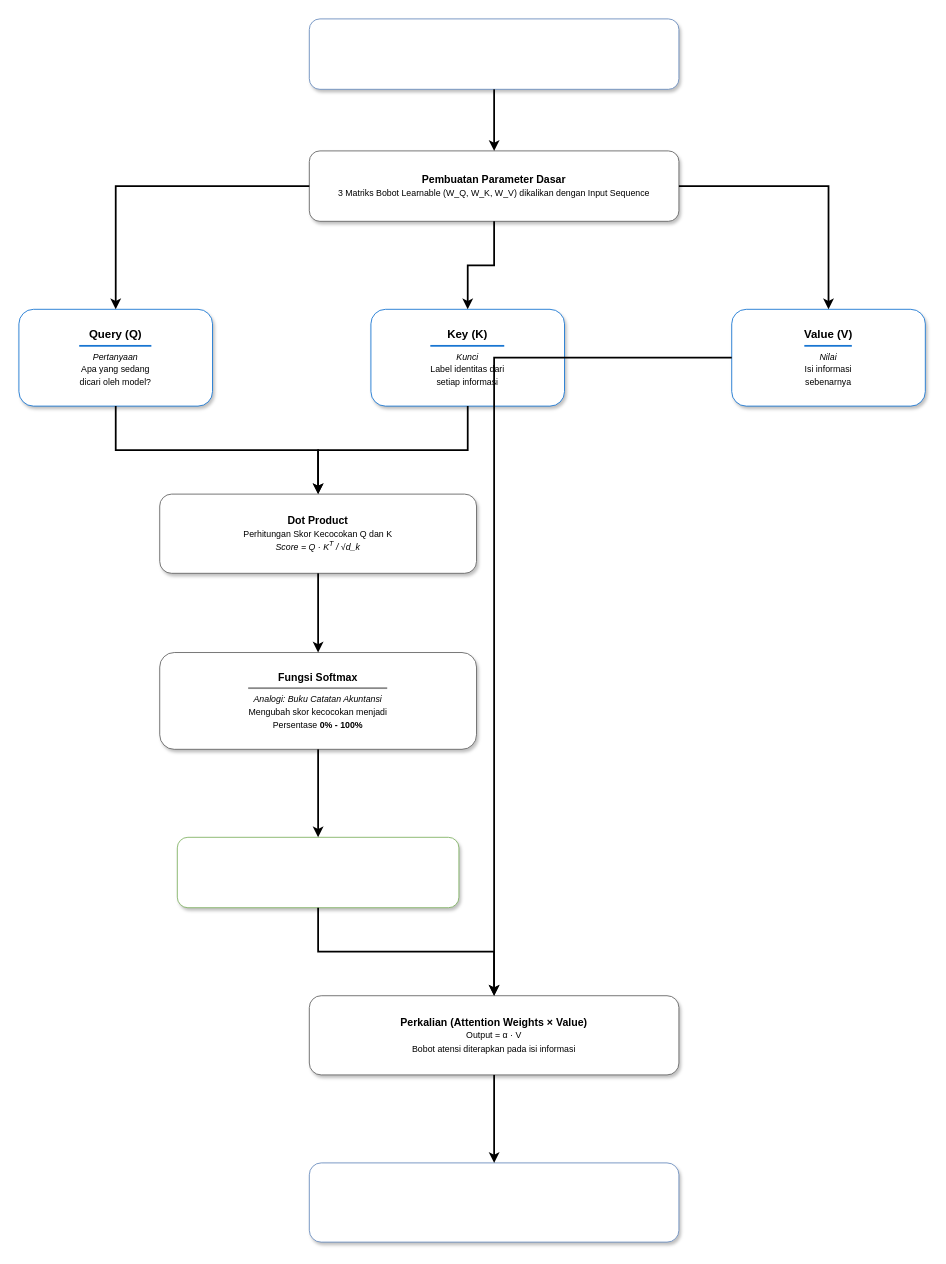
Some shapes in this 946 by 1264 pixel diagram are drawn without their labels. The centre of each missing label's shape, as x and y in pixels:
"Attention Weights Bobot Atensi (α) Seberapa penting setiap bagian input?" belongs at (318,873).
"Context Vector Informasi yang Paling Relevan Fokus Akhir Model" belongs at (494,1203).
"Input Sequence Data Awal yang akan diproses oleh mekanisme atensi" belongs at (494,55).
